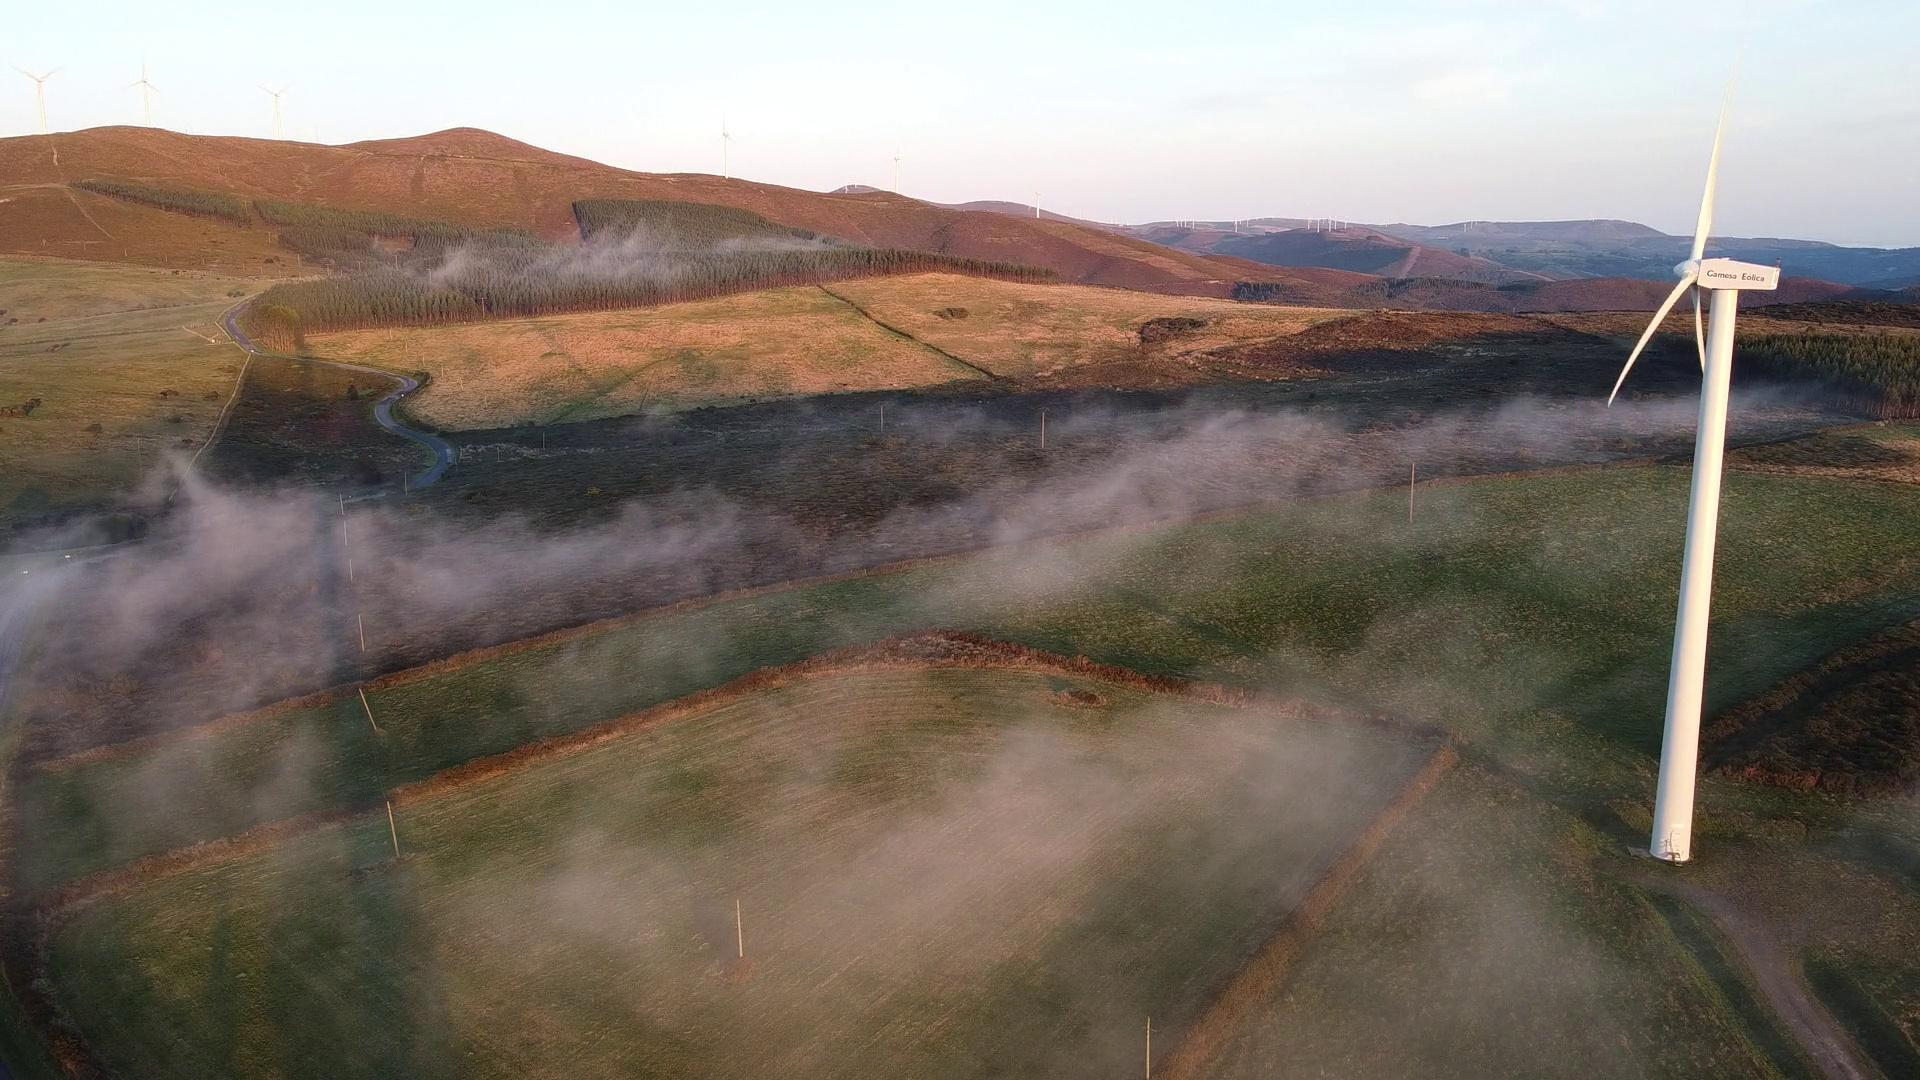turbine: (1582, 40, 1820, 885), (236, 57, 318, 148), (8, 40, 78, 136), (692, 99, 756, 193), (116, 38, 170, 132), (862, 127, 922, 204), (1013, 148, 1068, 229)
